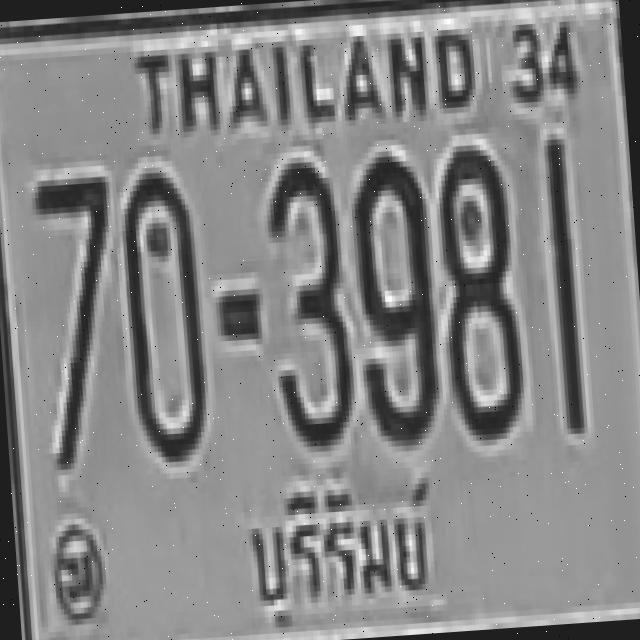0: (118, 170, 209, 464)
1: (543, 136, 587, 432)
3: (263, 154, 354, 448)
7: (30, 170, 125, 469)
8: (432, 142, 528, 446)
9: (348, 148, 442, 447)
Buriram: (234, 470, 458, 640)
